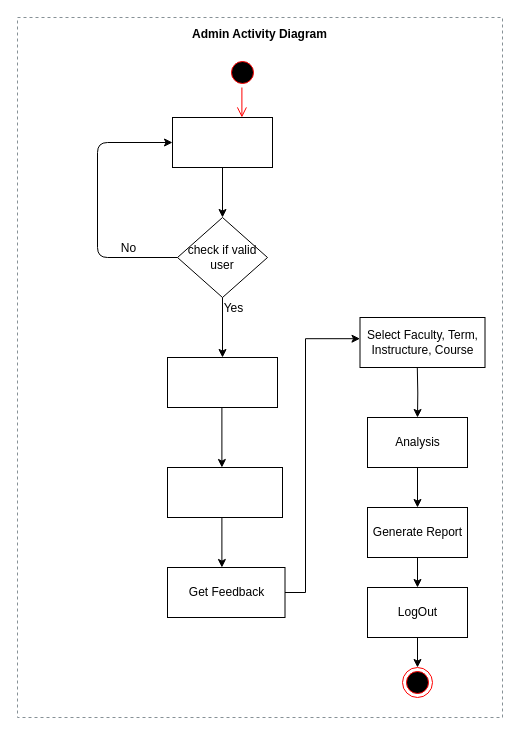
The diagram is 520 pixels wide and 735 high, and some of its shapes have lost their labels. Each missing label, with the centre of its shape:
Home Page: [222,382]
Login: [222,142]
Send Link: [224,492]
